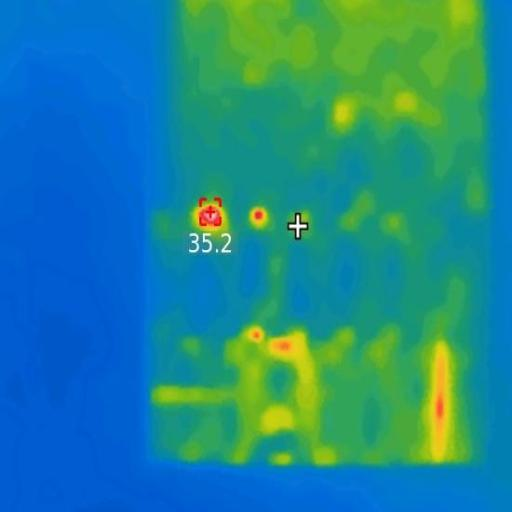hotspot: (202, 205, 224, 230), (436, 383, 444, 430), (252, 205, 269, 227)
